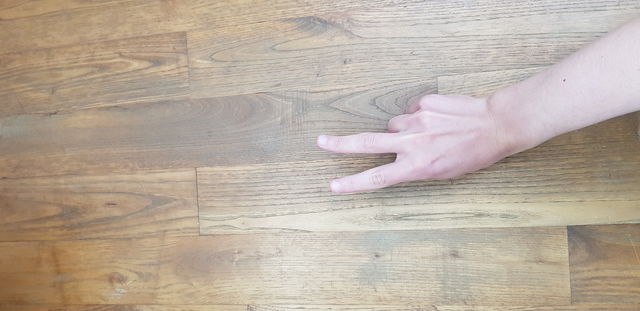Scissors: (303, 86, 523, 201)
